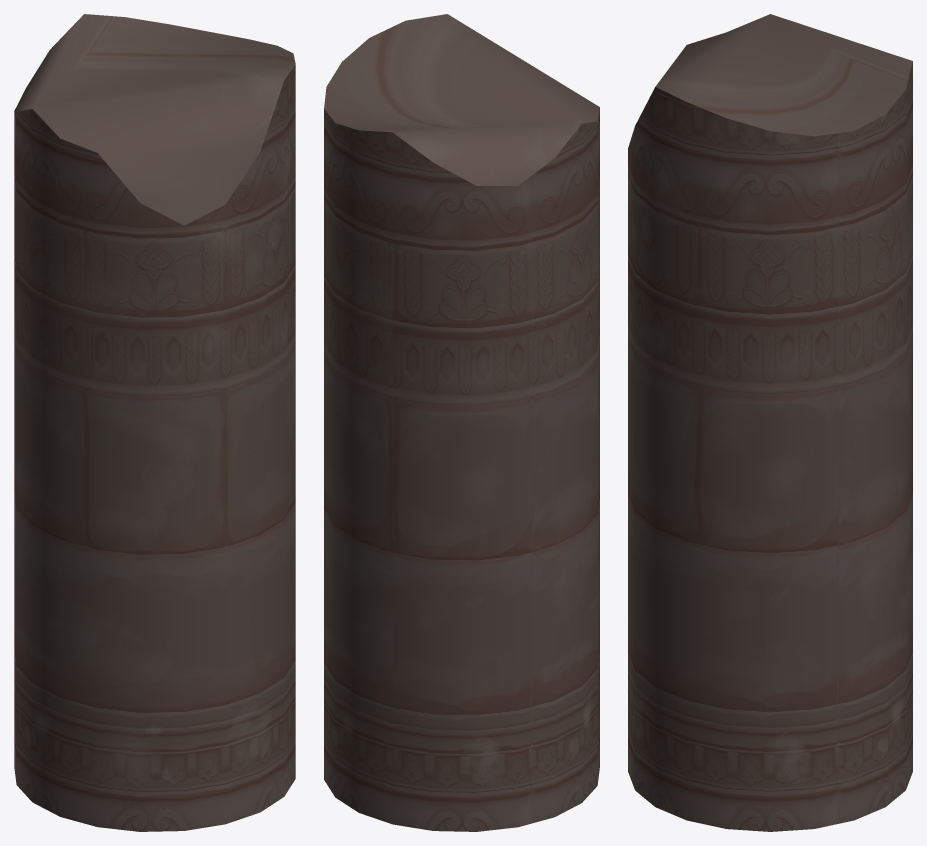
File: PillarDamaged4_4.fbx
The picture shows the model from 3 angles, left to right: view 1: azimuth 30°, elevation 25°; view 2: azimuth 150°, elevation 25°; view 3: azimuth 270°, elevation 25°; orthographic projection. The views are drawn at different scales.
Visible parts, largest first — view 1: polySurface207; view 2: polySurface207; view 3: polySurface207.
Part boxes in pixels (x1,y1,x2,y2): polySurface207: (14,14,295,831); polySurface207: (324,14,599,831); polySurface207: (628,14,912,831).
Bounding box in the file's own units: 22.73 × 63.43 × 22.73.
